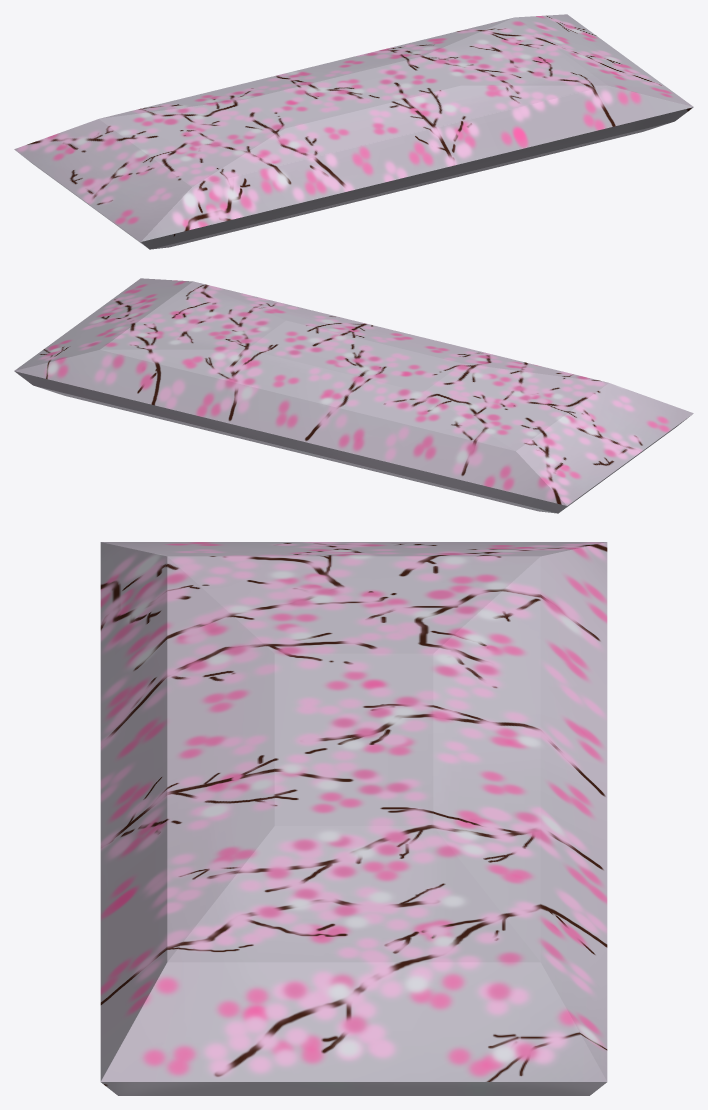
Rendered from Pillow.fbx.
The picture shows the model from 3 angles, top to bottom: view 1: azimuth 30°, elevation 25°; view 2: azimuth 150°, elevation 25°; view 3: azimuth 270°, elevation 25°; orthographic projection. The views are drawn at different scales.
Parts seen in each view (by area): view 1: Pillow; view 2: Pillow; view 3: Pillow.
Part boxes in pixels (x1=…): Pillow: x1=14, y1=14, x2=693, y2=249; Pillow: x1=14, y1=278, x2=693, y2=513; Pillow: x1=100, y1=542, x2=607, y2=1095.
Bounding box in the file's own units: 97.26 × 9.75 × 38.58.
